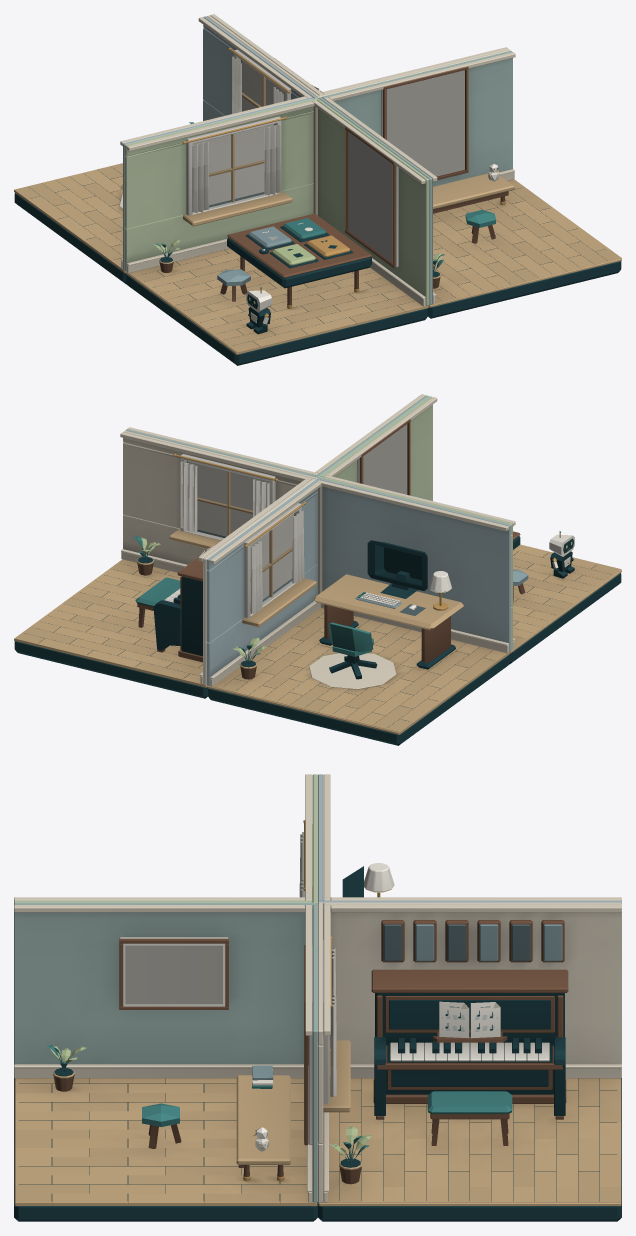
The model's file is four-rooms.glb.
3 views of the same model, one above another, from view 1: azimuth 30°, elevation 25°; view 2: azimuth 150°, elevation 25°; view 3: azimuth 270°, elevation 25° (orthographic). The views are drawn at different scales.
Visible parts, largest first — view 1: RoomAI_aiWall_Baked, RoomDeveloper_developerWall_Baked, ResumeBoard_paper_Baked, RoomAI_Oak tonal 1.0_Baked, RoomAI_Oak tonal 0.94_Baked, LeaderboardBoard_paper_Baked, RoomAI_paper_Baked, RoomDeveloper_Oak tonal 0.94_Baked, RoomAI_Oak tonal 1.045_Baked, RoomDeveloper_Oak tonal 1.045_Baked, RoomAI_chalk_Baked, RoomAI_ink_Baked (+26 smaller); view 2: RoomBlog_blogWall_Baked, RoomPiano_pianoWall_Baked, RoomBlog_chalk_Baked, RoomBlog_wood_Baked, RoomBlog_Oak tonal 0.94_Baked, RoomBlog_Oak tonal 1.0_Baked, RoomBlog_ink_Baked, RoomBlog_Oak tonal 1.045_Baked, RoomPiano_paper_Baked, RoomPiano_Oak tonal 0.94_Baked, RoomPiano_Oak tonal 1.0_Baked, RoomAI_aiWall_Baked (+26 smaller); view 3: RoomDeveloper_developerWall_Baked, RoomPiano_pianoWall_Baked, RoomDeveloper_Oak tonal 1.0_Baked, RoomDeveloper_Oak tonal 0.94_Baked, Piano_PianoFacet_ink_Baked, RoomPiano_Oak tonal 0.94_Baked, RoomDeveloper_Oak tonal 1.045_Baked, RoomPiano_Oak tonal 1.045_Baked, RoomPiano_Oak tonal 1.0_Baked, Piano_PianoFacet_walnut_Baked, RoomDeveloper_chalk_Baked, RoomPiano_ink_Baked (+21 smaller).
Boxes of the visible parts, box(x1,y1,x2,y2) form: RoomAI_aiWall_Baked: box(125, 98, 429, 305); RoomDeveloper_developerWall_Baked: box(318, 50, 512, 304); ResumeBoard_paper_Baked: box(381, 70, 464, 176); RoomAI_Oak tonal 1.0_Baked: box(157, 250, 423, 346); RoomAI_Oak tonal 0.94_Baked: box(129, 259, 414, 352); LeaderboardBoard_paper_Baked: box(348, 132, 398, 267); RoomAI_paper_Baked: box(186, 116, 281, 215); RoomDeveloper_Oak tonal 0.94_Baked: box(433, 187, 621, 303); RoomAI_Oak tonal 1.045_Baked: box(142, 248, 407, 334); RoomDeveloper_Oak tonal 1.045_Baked: box(433, 201, 580, 297); RoomAI_chalk_Baked: box(127, 100, 425, 306); RoomAI_ink_Baked: box(126, 250, 427, 365); RoomBlog_blogWall_Baked: box(206, 478, 510, 685); RoomPiano_pianoWall_Baked: box(123, 430, 317, 684); RoomBlog_chalk_Baked: box(210, 480, 508, 689); RoomBlog_wood_Baked: box(207, 529, 510, 734); RoomBlog_Oak tonal 0.94_Baked: box(213, 607, 496, 731); RoomBlog_Oak tonal 1.0_Baked: box(235, 613, 506, 725); RoomBlog_ink_Baked: box(208, 613, 509, 745); RoomBlog_Oak tonal 1.045_Baked: box(235, 616, 479, 718); RoomPiano_paper_Baked: box(180, 454, 275, 540); RoomPiano_Oak tonal 0.94_Baked: box(14, 559, 202, 679); RoomPiano_Oak tonal 1.0_Baked: box(30, 570, 204, 684); RoomAI_aiWall_Baked: box(318, 396, 512, 650); RoomDeveloper_developerWall_Baked: box(14, 902, 317, 1202); RoomPiano_pianoWall_Baked: box(318, 902, 621, 1202); RoomDeveloper_Oak tonal 1.0_Baked: box(15, 1078, 312, 1202); RoomDeveloper_Oak tonal 0.94_Baked: box(15, 1078, 312, 1202); Piano_PianoFacet_ink_Baked: box(374, 993, 565, 1115); RoomPiano_Oak tonal 0.94_Baked: box(323, 1078, 621, 1202); RoomDeveloper_Oak tonal 1.045_Baked: box(15, 1078, 312, 1202); RoomPiano_Oak tonal 1.045_Baked: box(323, 1078, 621, 1202); RoomPiano_Oak tonal 1.0_Baked: box(323, 1078, 621, 1202); Piano_PianoFacet_walnut_Baked: box(371, 969, 568, 1119); RoomDeveloper_chalk_Baked: box(14, 905, 312, 1202); RoomPiano_ink_Baked: box(318, 1078, 621, 1221).
Size of the model in its own units: 11.2 by 3.92 by 11.2.
